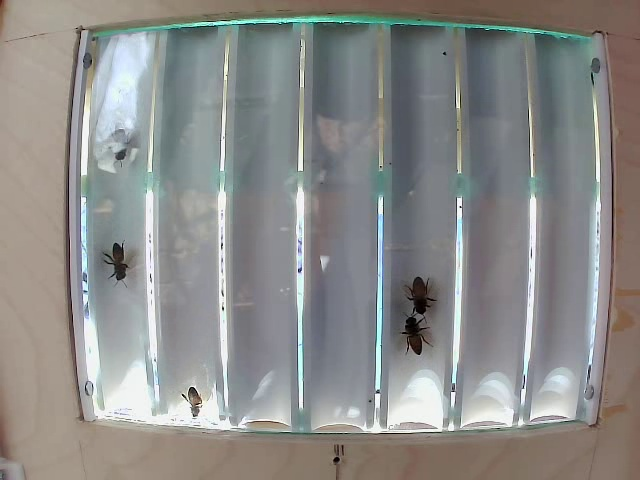bee: (100, 246, 143, 293), (406, 267, 446, 316), (391, 309, 434, 349)
